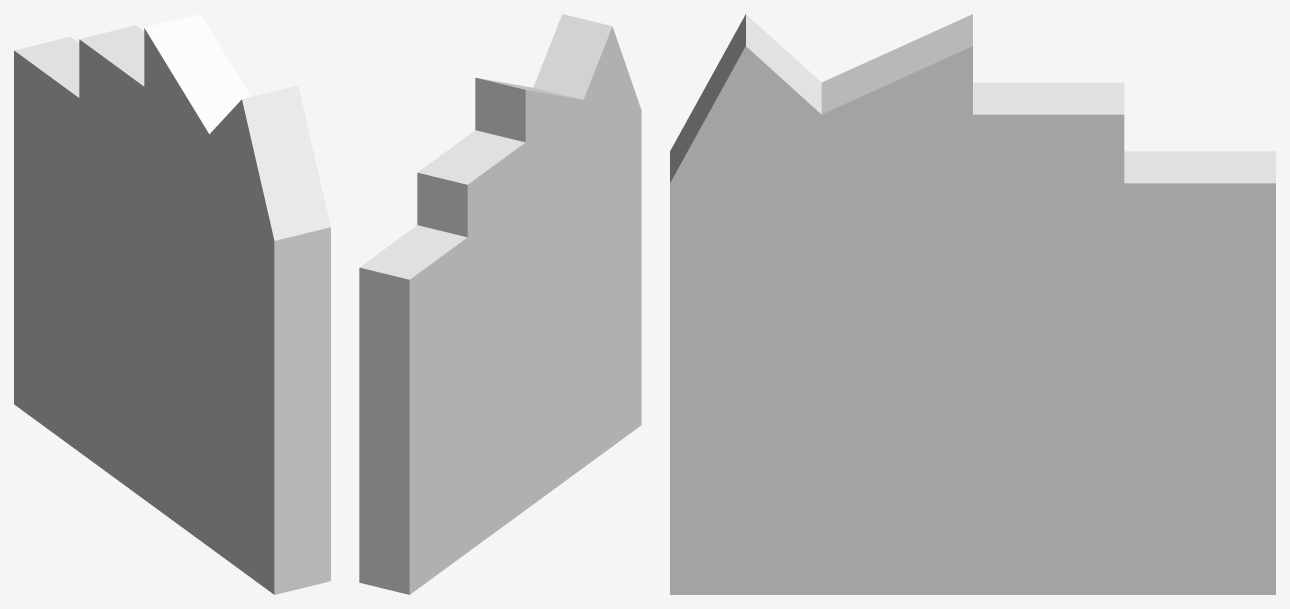
3 renders of one model, left to right at view 1: azimuth 30°, elevation 25°; view 2: azimuth 150°, elevation 25°; view 3: azimuth 270°, elevation 25°, orthographic. The views are drawn at different scales.
Size of the model in its own units: 16 by 128 by 128.
Materials: 1 (1 with a texture image).
